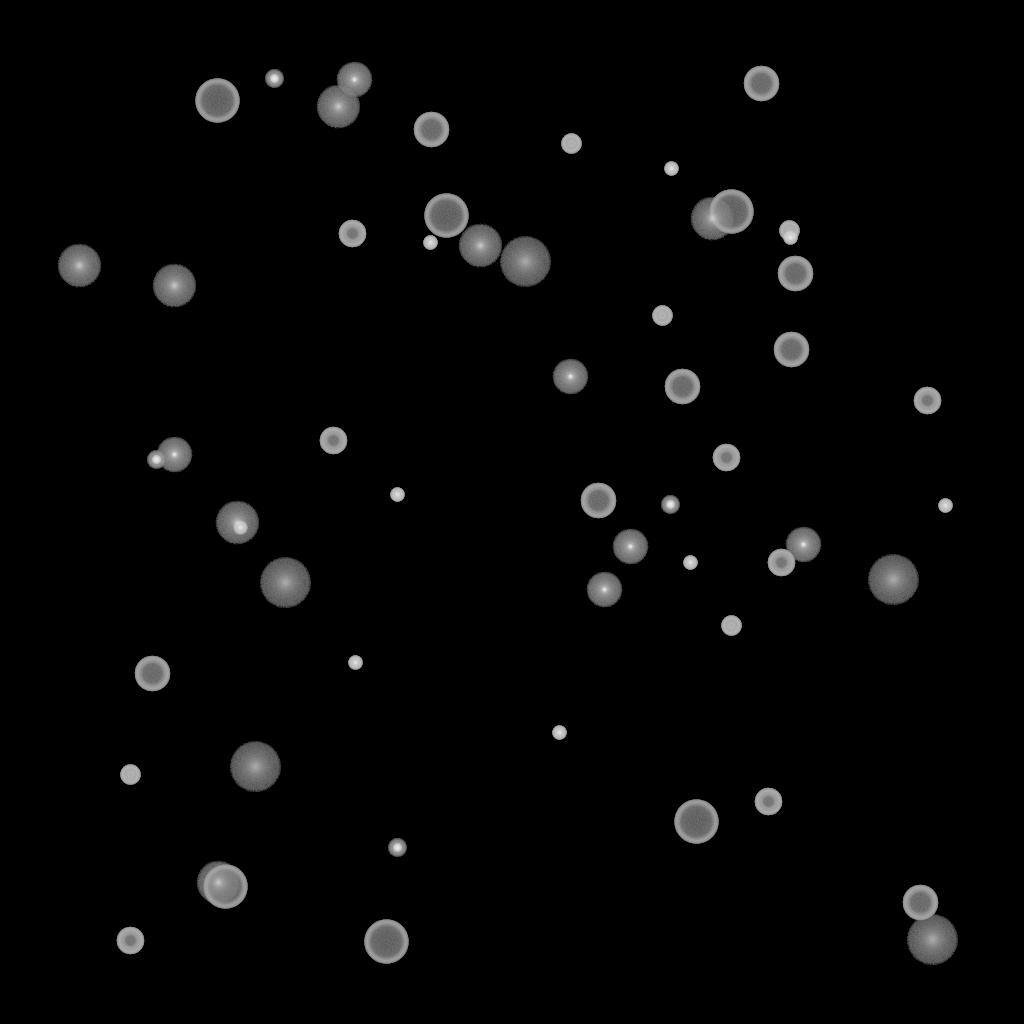depth:-20: (388, 839, 406, 857), (147, 451, 165, 469), (265, 70, 283, 88), (661, 496, 679, 514)
depth:-30: (783, 231, 797, 245), (233, 521, 247, 535), (423, 236, 437, 250), (938, 499, 952, 513), (683, 556, 697, 570), (552, 726, 566, 740), (348, 656, 362, 670), (390, 488, 404, 502), (664, 162, 678, 176)
depth:-40: (561, 134, 581, 154), (652, 306, 672, 326), (721, 616, 741, 636), (120, 765, 140, 785), (779, 221, 799, 241)
depth:-50: (913, 387, 941, 415), (767, 549, 795, 577), (712, 444, 740, 472), (338, 220, 366, 248), (116, 927, 144, 955), (754, 788, 782, 816), (319, 427, 347, 455)
depth:-60: (743, 66, 779, 102), (902, 885, 938, 921), (413, 112, 449, 148), (580, 483, 616, 519), (664, 369, 700, 405), (134, 656, 170, 692), (773, 332, 809, 368), (777, 256, 813, 292)
depth:-70: (203, 865, 247, 909), (424, 194, 468, 238), (195, 79, 239, 123), (364, 920, 408, 964), (674, 800, 718, 844), (709, 190, 753, 234)
depth:0: (612, 529, 648, 565), (156, 437, 192, 473), (552, 359, 588, 395), (586, 572, 622, 608), (785, 527, 821, 563), (336, 62, 372, 98)
depth:10: (458, 224, 502, 268), (690, 197, 734, 241), (152, 264, 196, 308), (196, 861, 240, 905), (215, 501, 259, 545), (316, 85, 360, 129), (57, 244, 101, 288)
depth:20: (499, 237, 551, 287), (259, 558, 311, 608), (906, 915, 958, 965), (867, 555, 919, 605), (229, 742, 281, 792)
